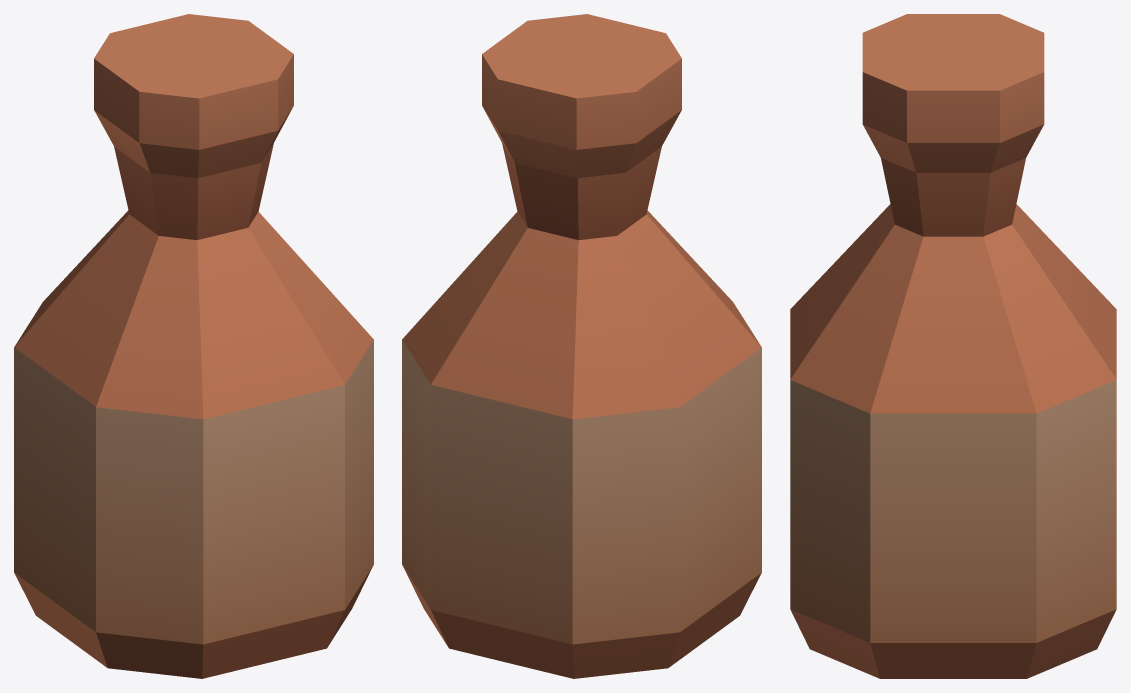
Rendered from jug.lod.glb.
3 views of the same model, side by side, from view 1: azimuth 30°, elevation 25°; view 2: azimuth 150°, elevation 25°; view 3: azimuth 270°, elevation 25° (orthographic).
Visible parts, largest first — view 1: m; view 2: m; view 3: m.
Boxes of the visible parts, x1,y1,x2,y2 form: m: (14, 14, 373, 678); m: (402, 14, 761, 678); m: (790, 14, 1116, 678).
Size of the model in its own units: 0.0785 by 0.15 by 0.0785.
